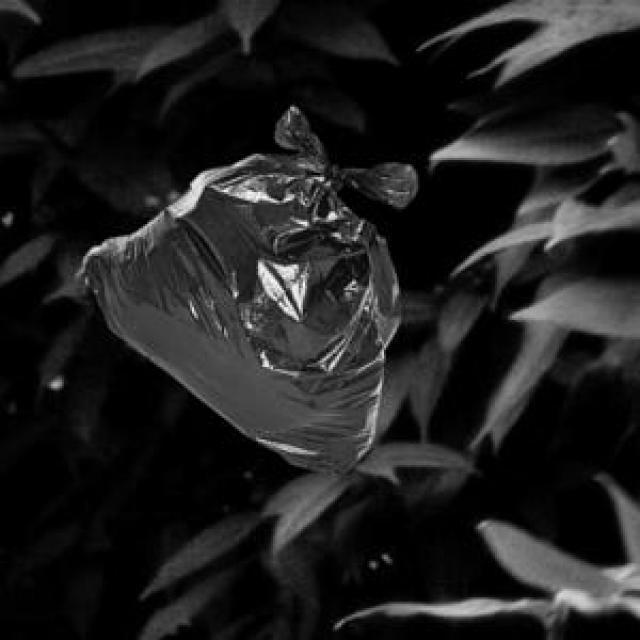miscellaneous trash: (70, 102, 414, 472)
